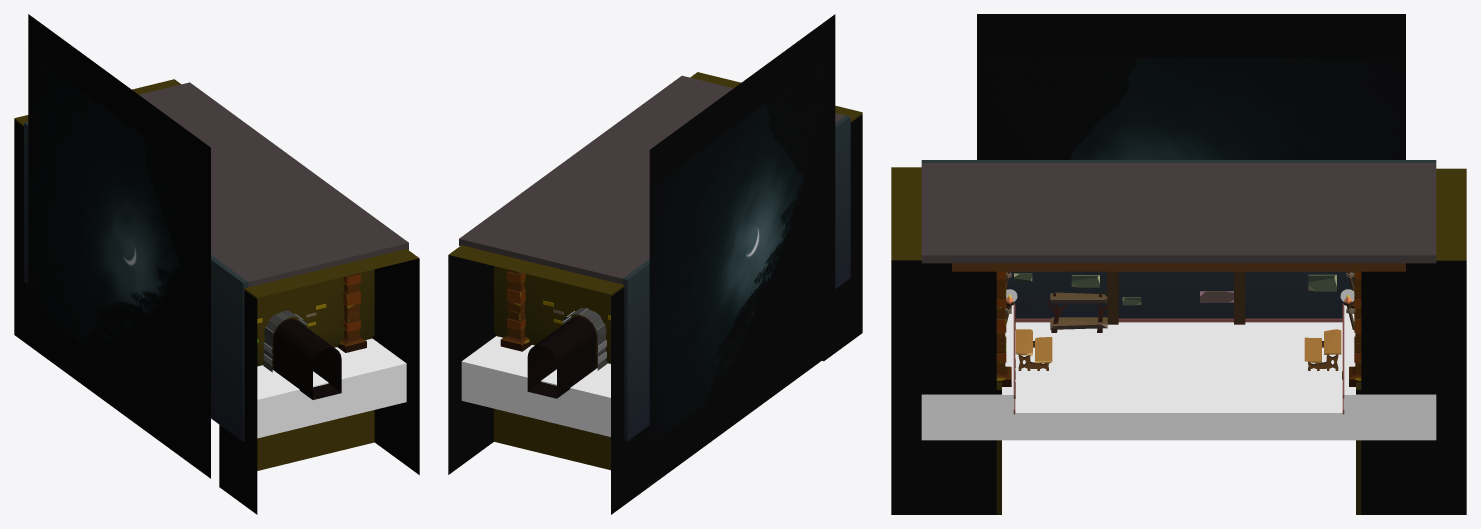
The model's file is Witches Den.fbx.
The picture shows the model from 3 angles, left to right: view 1: azimuth 30°, elevation 25°; view 2: azimuth 150°, elevation 25°; view 3: azimuth 270°, elevation 25°; orthographic projection. The views are drawn at different scales.
Parts seen in each view (by area): view 1: Witches Den; view 2: Witches Den; view 3: Witches Den.
Boxes of the visible parts, bbox=[...] form: Witches Den: bbox=[14, 14, 419, 514]; Witches Den: bbox=[448, 14, 862, 514]; Witches Den: bbox=[891, 14, 1466, 514].
Size of the model in its own units: 9.7 by 17.77 by 23.03.
